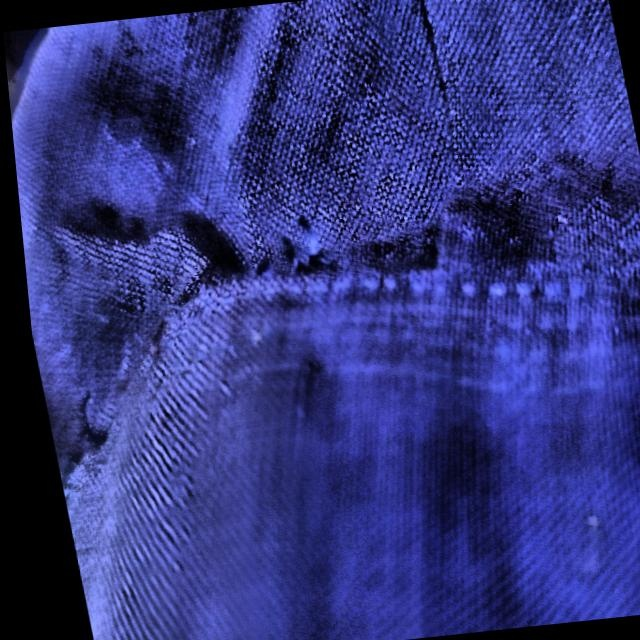Stitch: (197, 189, 369, 351)
